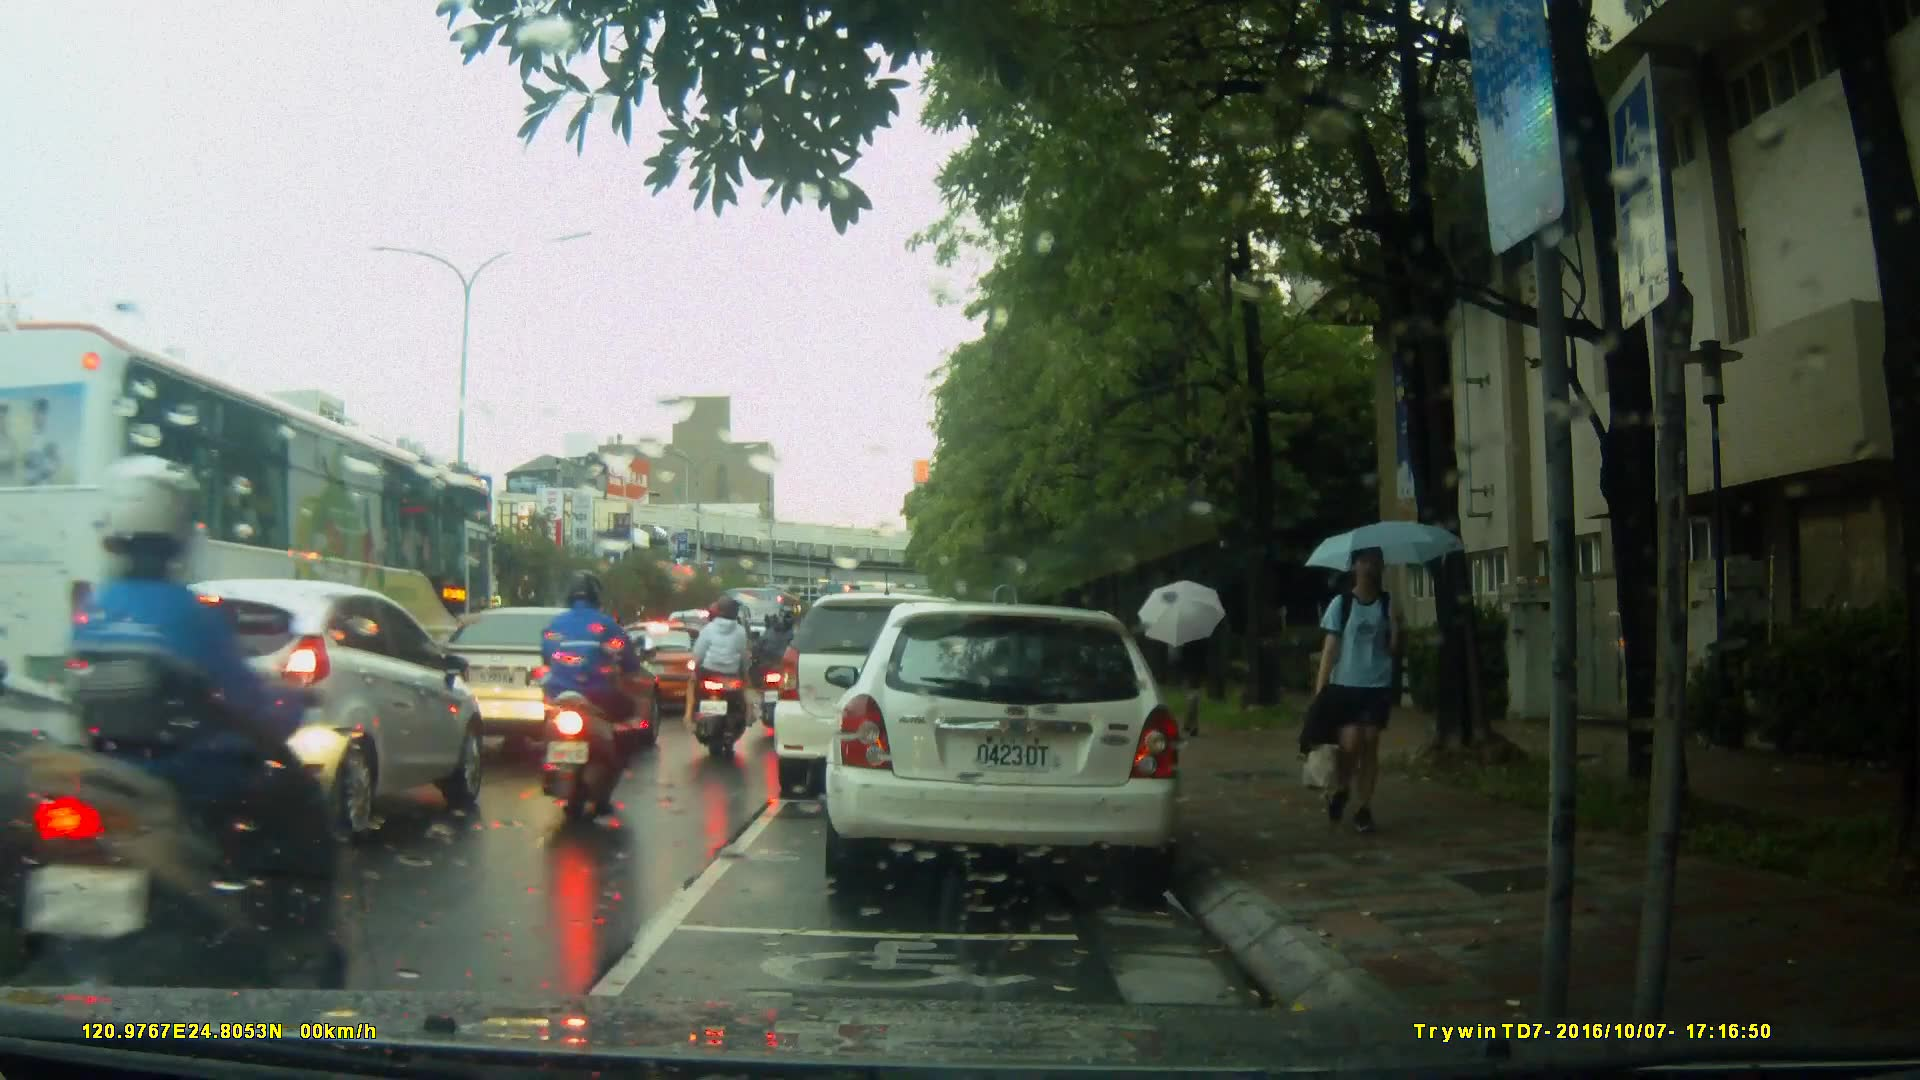pedestrian: (1301, 547, 1431, 831), (1165, 609, 1219, 738)
rider: (11, 448, 338, 1053), (546, 571, 641, 814), (694, 594, 765, 770), (757, 606, 796, 734)
vehicle: (3, 309, 506, 792), (835, 594, 1194, 898), (86, 576, 485, 846), (776, 590, 1026, 784), (406, 604, 656, 757), (608, 619, 729, 716)
